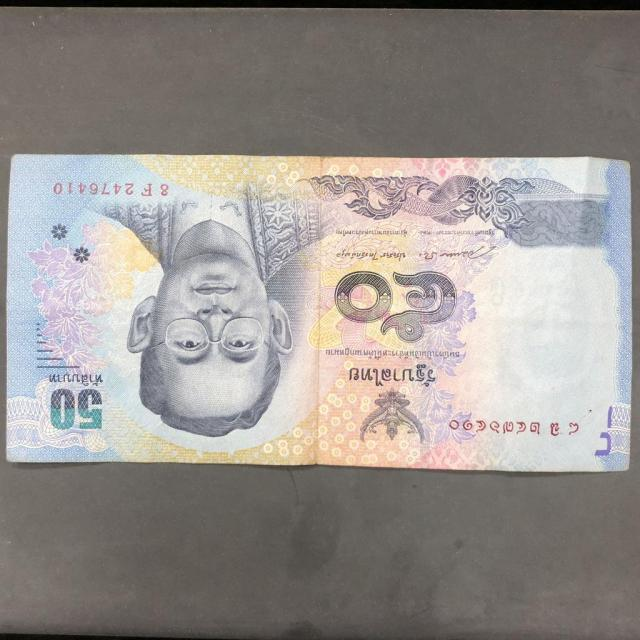THAI50: (6, 155, 631, 472)
